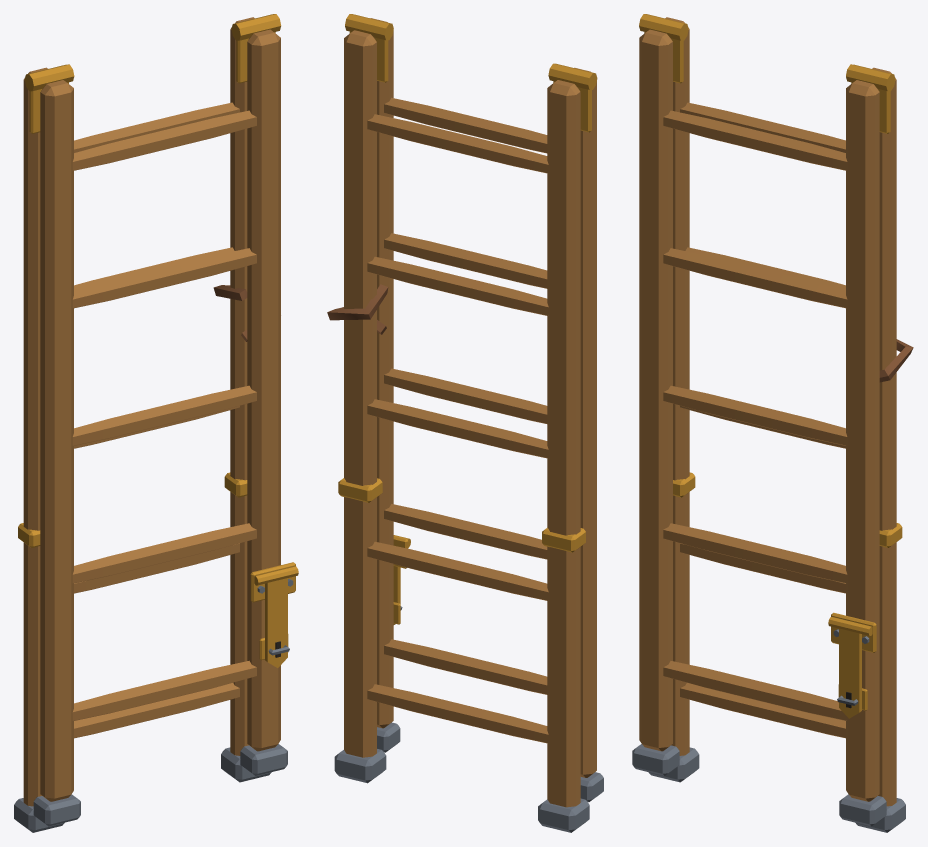
Rendered from Ladder.fbx.
3 renders of one model, left to right at view 1: azimuth 30°, elevation 25°; view 2: azimuth 150°, elevation 25°; view 3: azimuth 330°, elevation 25°, orthographic.
Parts seen in each view (by area): view 1: Upper, Base, Latch; view 2: Base, Upper, Latch; view 3: Upper, Base, Latch.
Boxes of the visible parts, x1=… form: Upper: x1=24, y1=14, x2=287, y2=826; Base: x1=14, y1=17, x2=275, y2=832; Latch: x1=250, y1=562, x2=298, y2=667; Base: x1=327, y1=30, x2=591, y2=832; Upper: x1=345, y1=14, x2=603, y2=802; Latch: x1=393, y1=535, x2=410, y2=624; Upper: x1=632, y1=14, x2=895, y2=826; Base: x1=644, y1=17, x2=913, y2=832; Latch: x1=828, y1=612, x2=876, y2=718.
Bounding box in the file's own units: 0.5545 × 1.62 × 0.1792.
